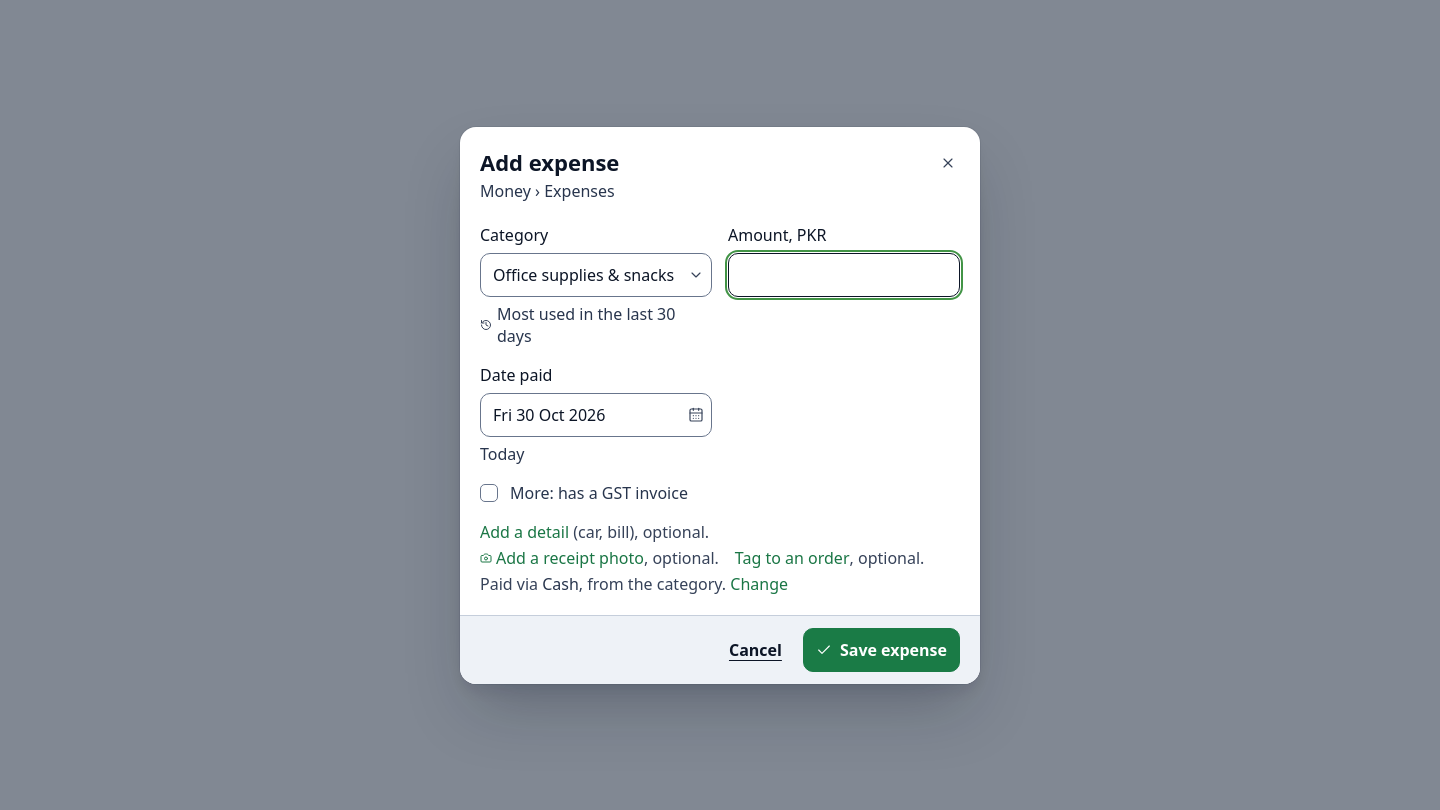
Scenario: Add expense dialog (M03) › a closed month shows the plain sentence under the date and keeps every entry
This screenshot has width=1440, height=810.
Type keys "450"
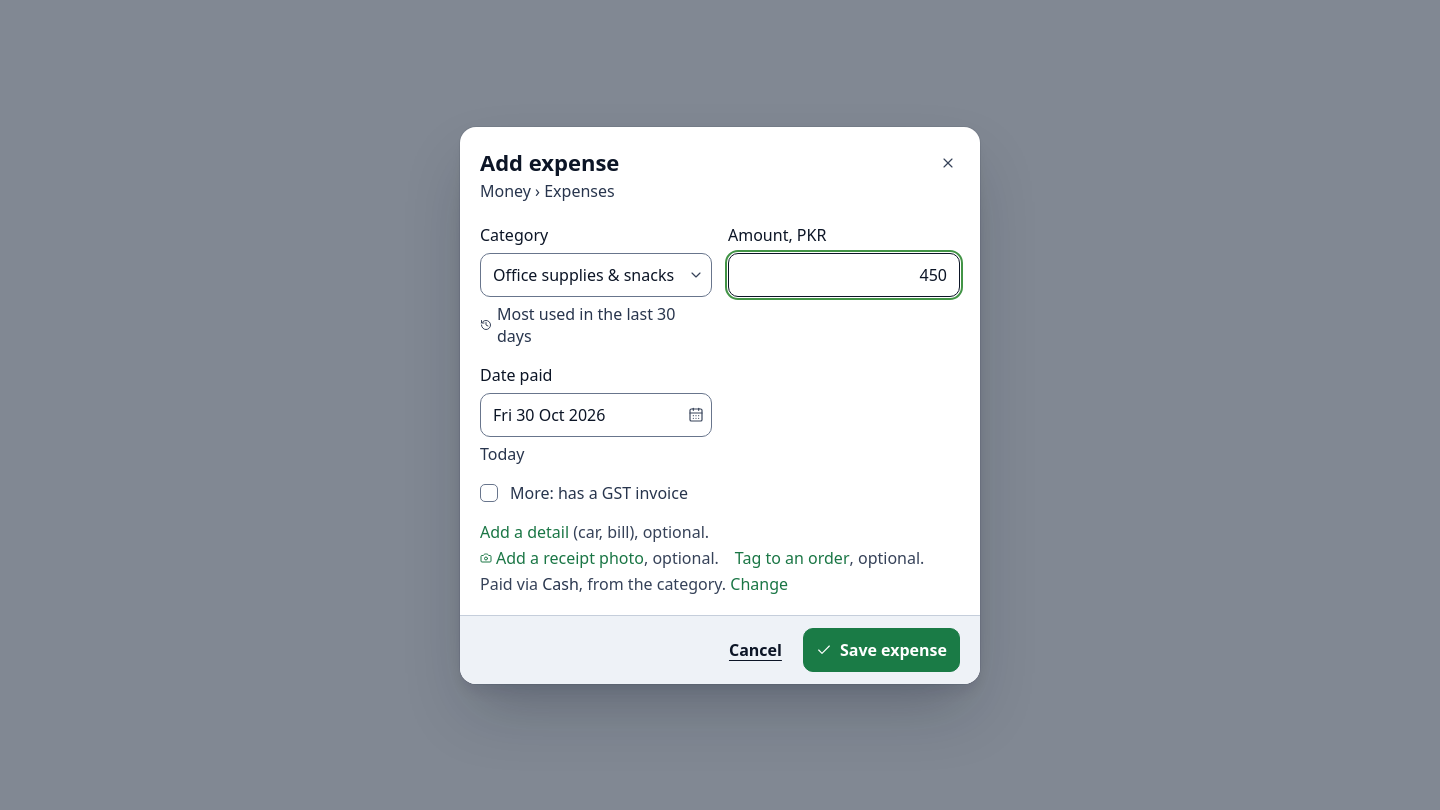
Click the field labelled "Date paid".
click(596, 414)  # box 480,392 -> 712,436
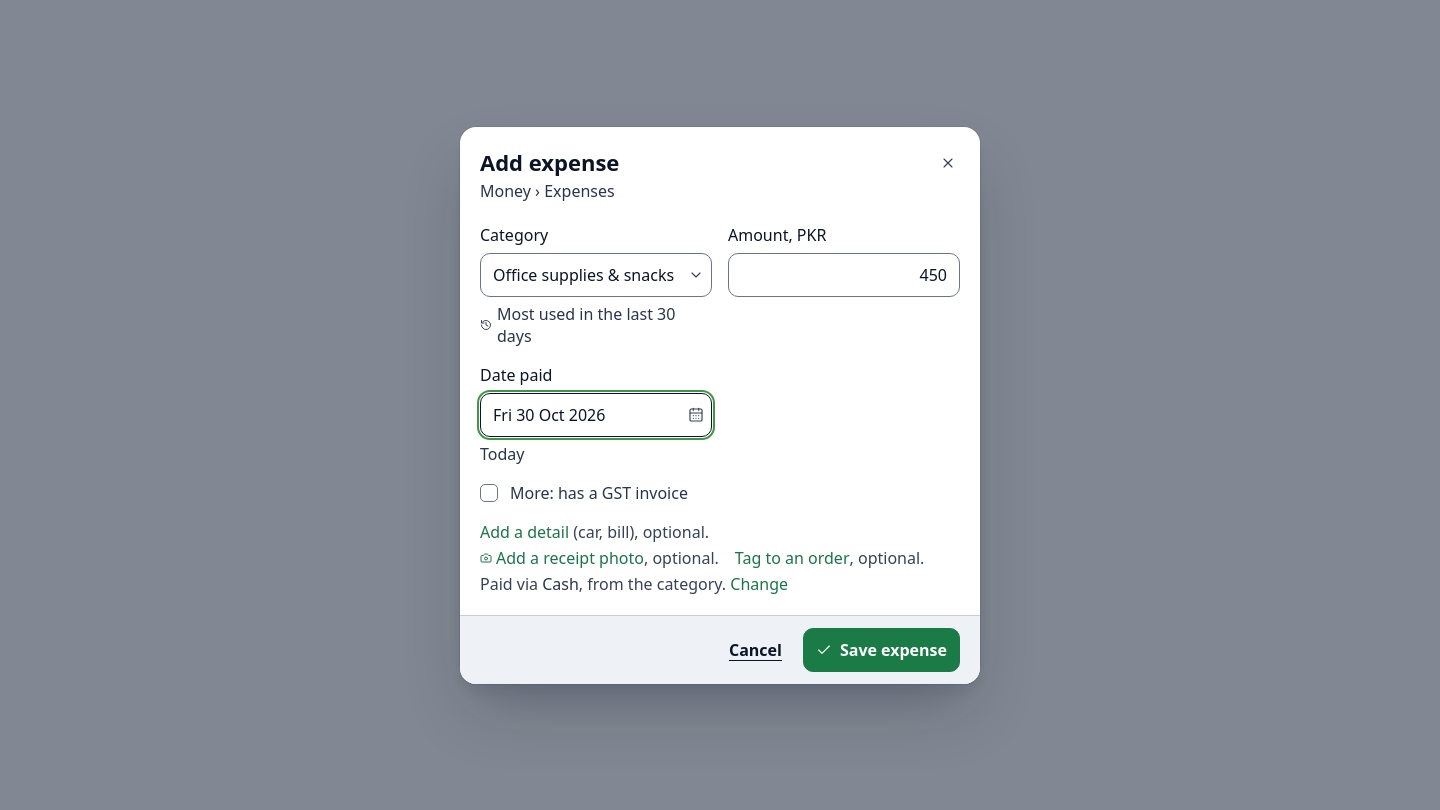
Type keys "30 sep{Enter}"
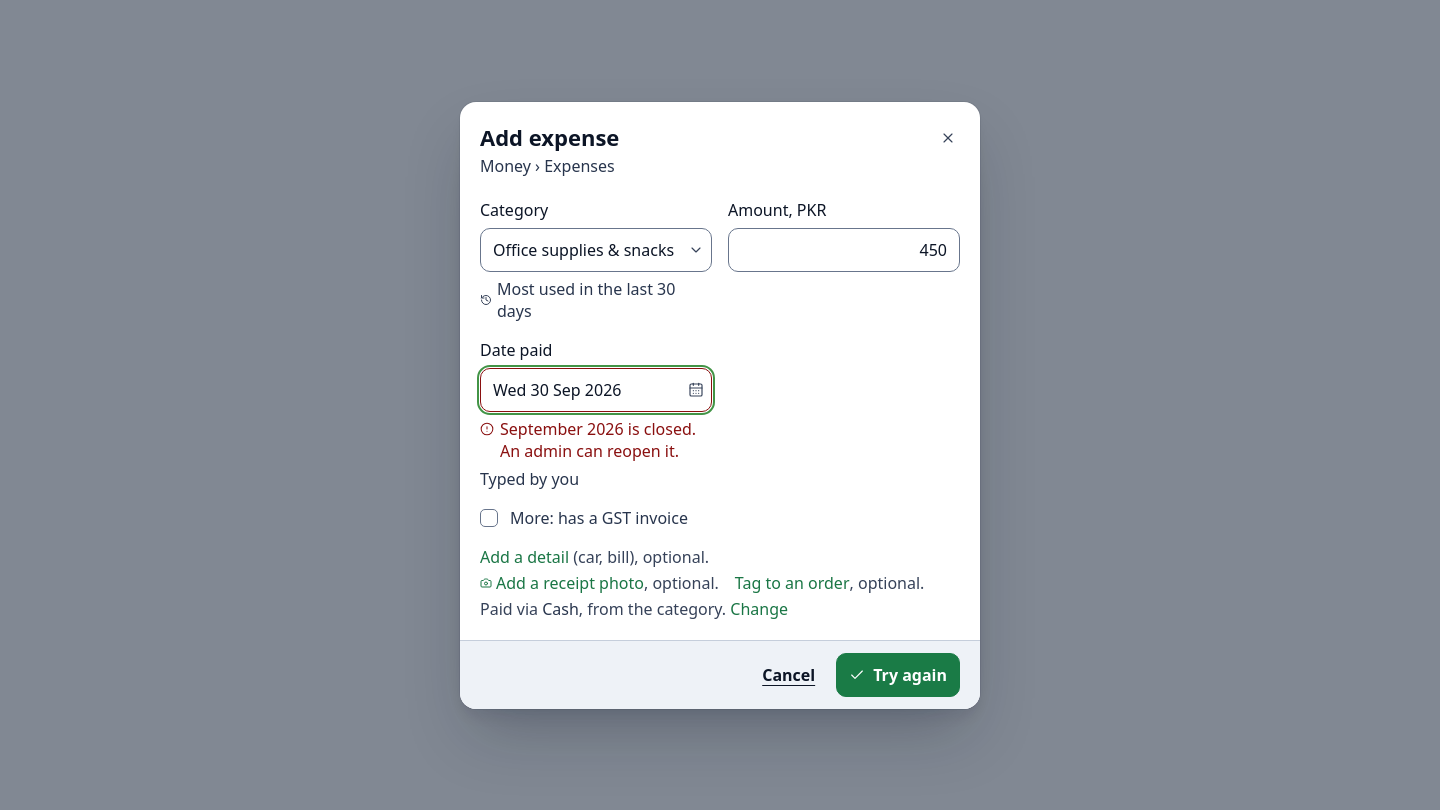
Expected: the field labelled "Amount, PKR" holds "450", 728,228 -> 960,272
Expected: the text "September 2026 is closed. An admin can reopen it." is shown, 500,418 -> 712,462
Expected: the button "Try again" is shown, 836,652 -> 960,696
